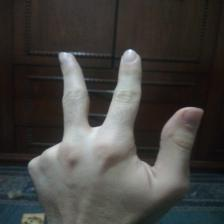three: (22, 45, 204, 216)
